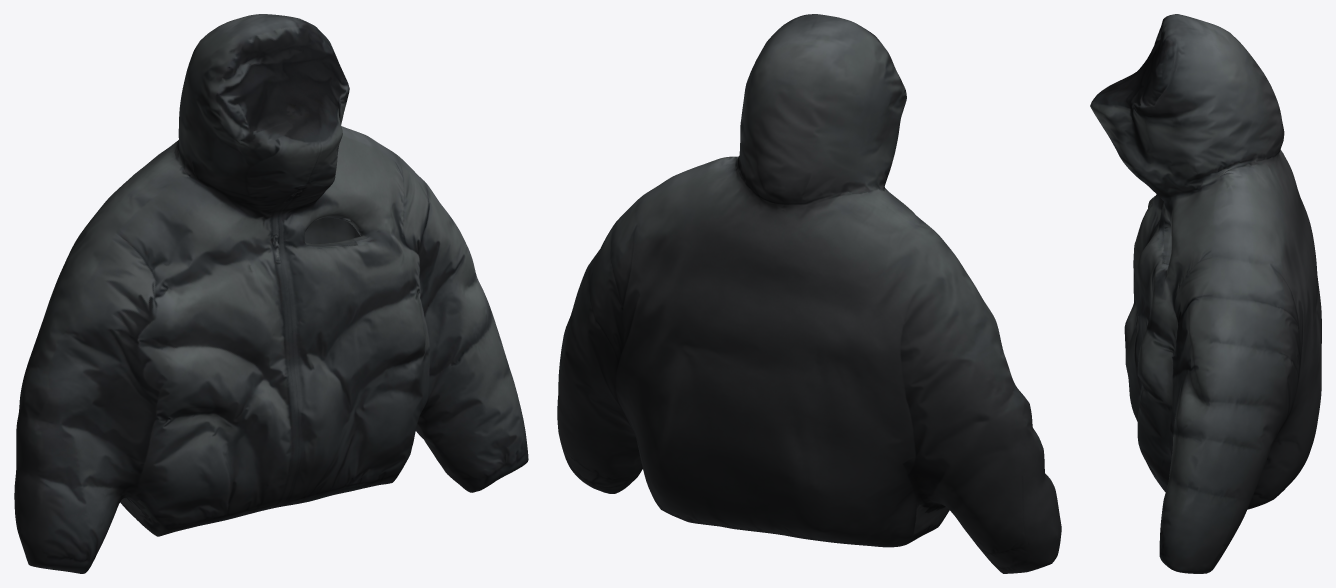
The model's file is CJ black puffer.glb.
3 renders of one model, left to right at view 1: azimuth 30°, elevation 25°; view 2: azimuth 150°, elevation 25°; view 3: azimuth 270°, elevation 25°, orthographic. The views are drawn at different scales.
Bounding box in the file's own units: 1.19 × 1.2 × 0.5485.
Materials: 1 (1 with a texture image).
